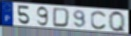5: (17, 5, 31, 25)
9: (73, 9, 88, 28), (36, 6, 49, 27)
C: (90, 10, 107, 30)
D: (52, 7, 71, 28)
Q: (108, 10, 127, 34)
